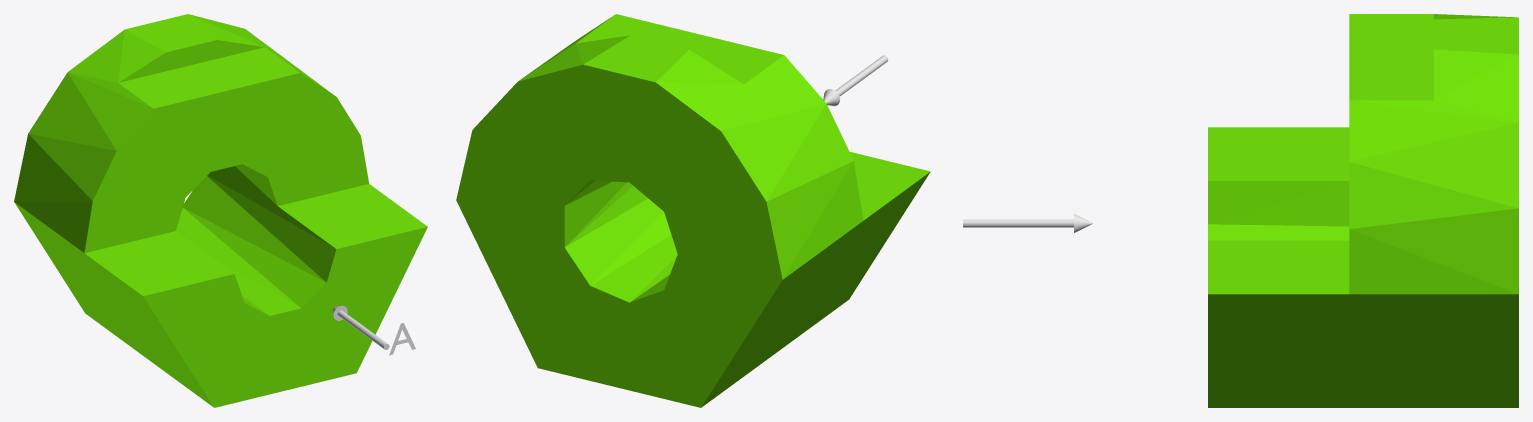
File: Tut3qn1a(arrow).gltf
The picture shows the model from 3 angles, left to right: view 1: azimuth 30°, elevation 25°; view 2: azimuth 150°, elevation 25°; view 3: azimuth 270°, elevation 25°; orthographic projection. The views are drawn at different scales.
Visible parts, largest first — view 1: tut3qn1a(new), Cylinder; view 2: tut3qn1a(new), Cylinder; view 3: tut3qn1a(new), Cylinder.
Part boxes in pixels (box(x1,y1,x2,y2)): tut3qn1a(new): box(14, 14, 427, 407); Cylinder: box(337, 310, 389, 349); tut3qn1a(new): box(456, 14, 930, 407); Cylinder: box(835, 55, 888, 96); tut3qn1a(new): box(1208, 14, 1518, 407); Cylinder: box(963, 219, 1073, 227).
Size of the model in its own units: 7 by 6.47 by 9.9.
